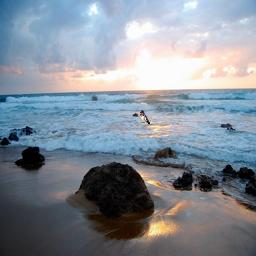Swallow: (140, 110, 152, 124)
